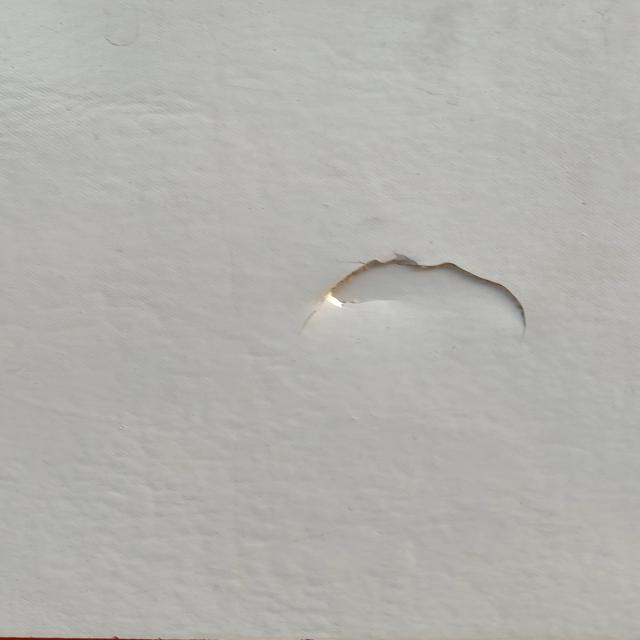Scratches: (289, 237, 557, 338)
